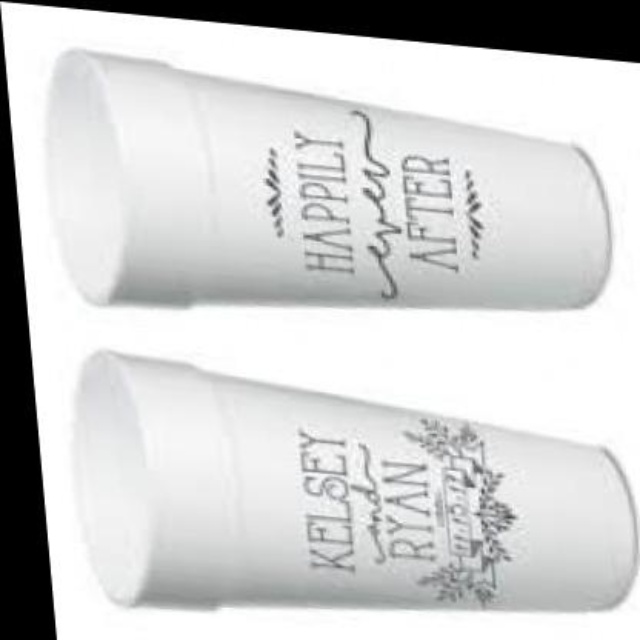trash: (75, 352, 635, 609), (48, 51, 609, 306)
